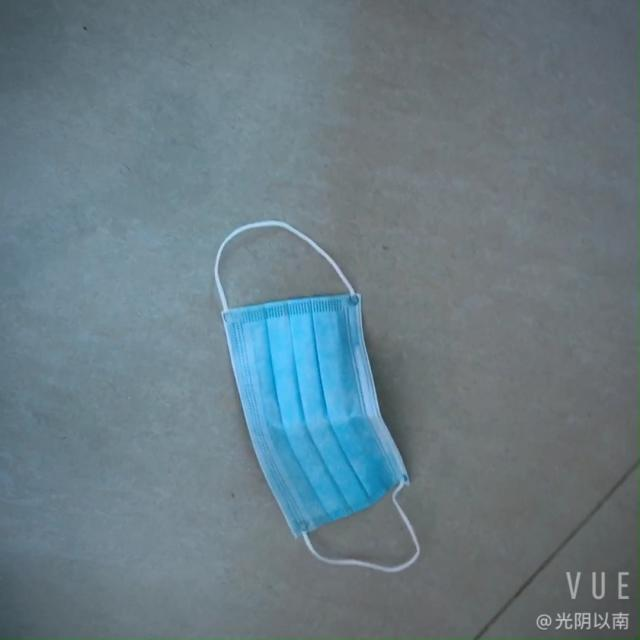non-organic waste: (238, 198, 419, 570)
